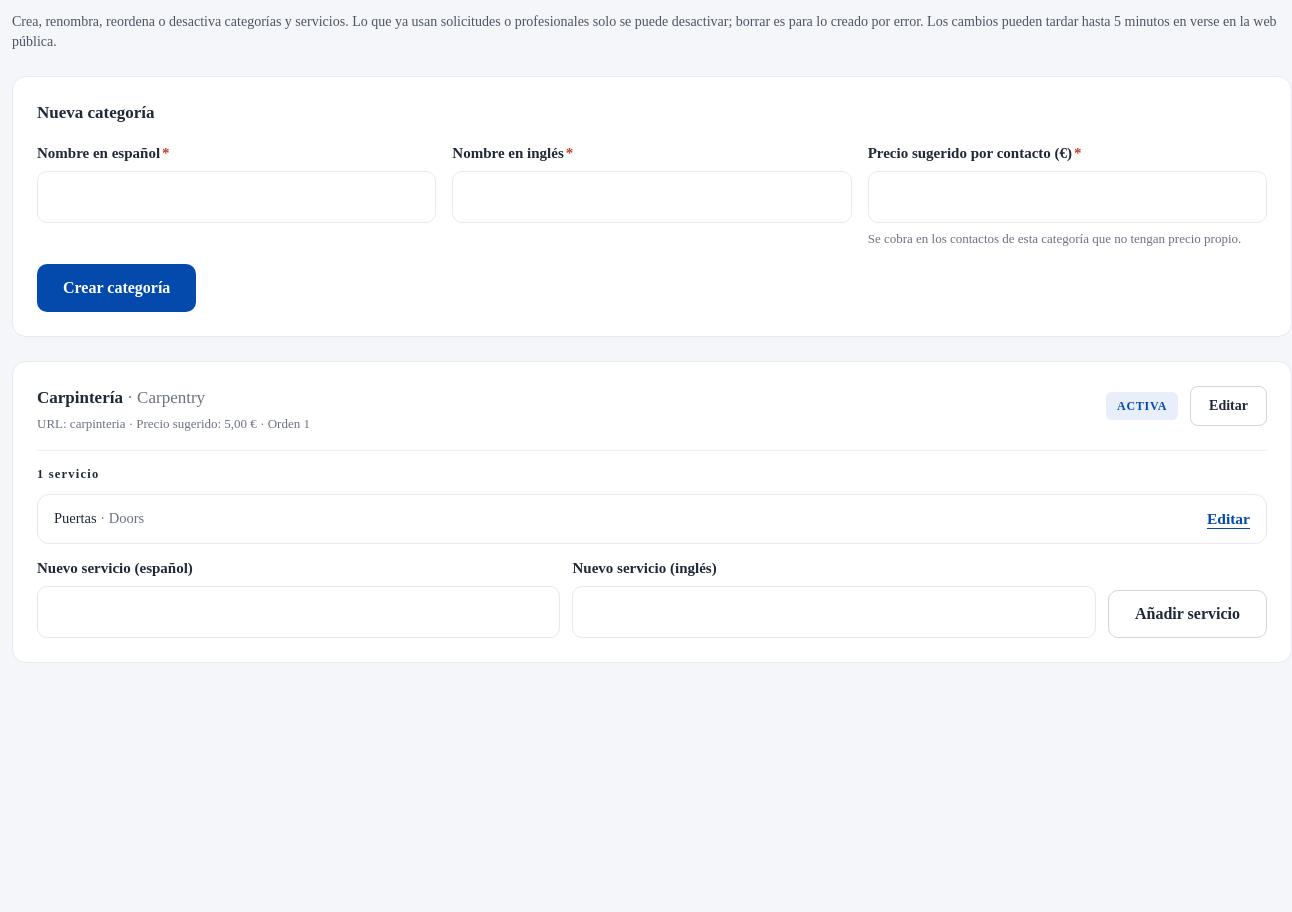
Test case: AdminCatalog › adds a service to its category
This screenshot has width=1292, height=912.
Expected: the heading "Carpintería · Carpentry" is shown, [37,388,205,407]
Type "Tarimas" into the field labelled "Nuevo servicio (español)" at (299, 612), box [37,586,560,638]
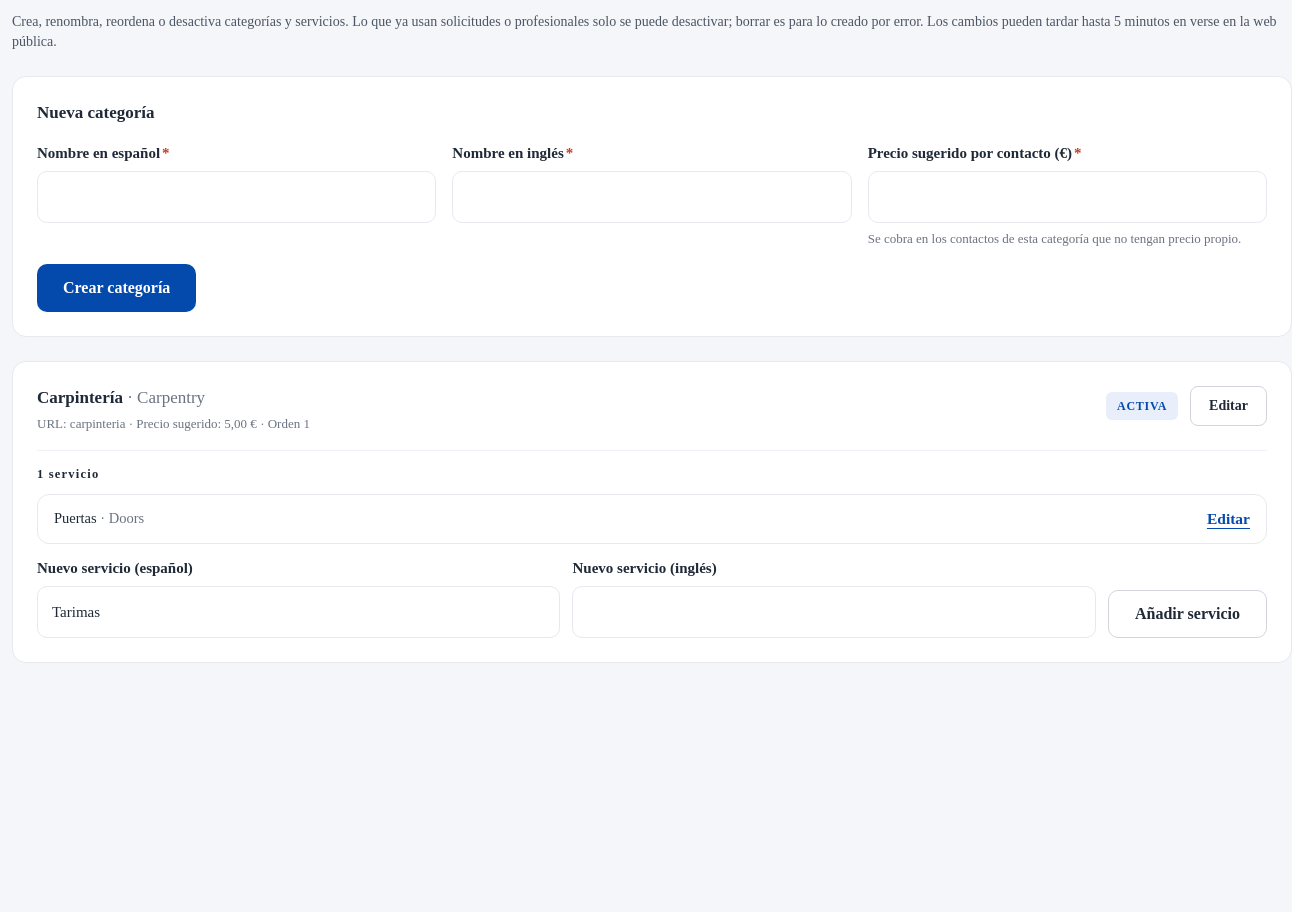
Type "Floors" into the field labelled "Nuevo servicio (inglés)" at (834, 612), box [572,586,1096,638]
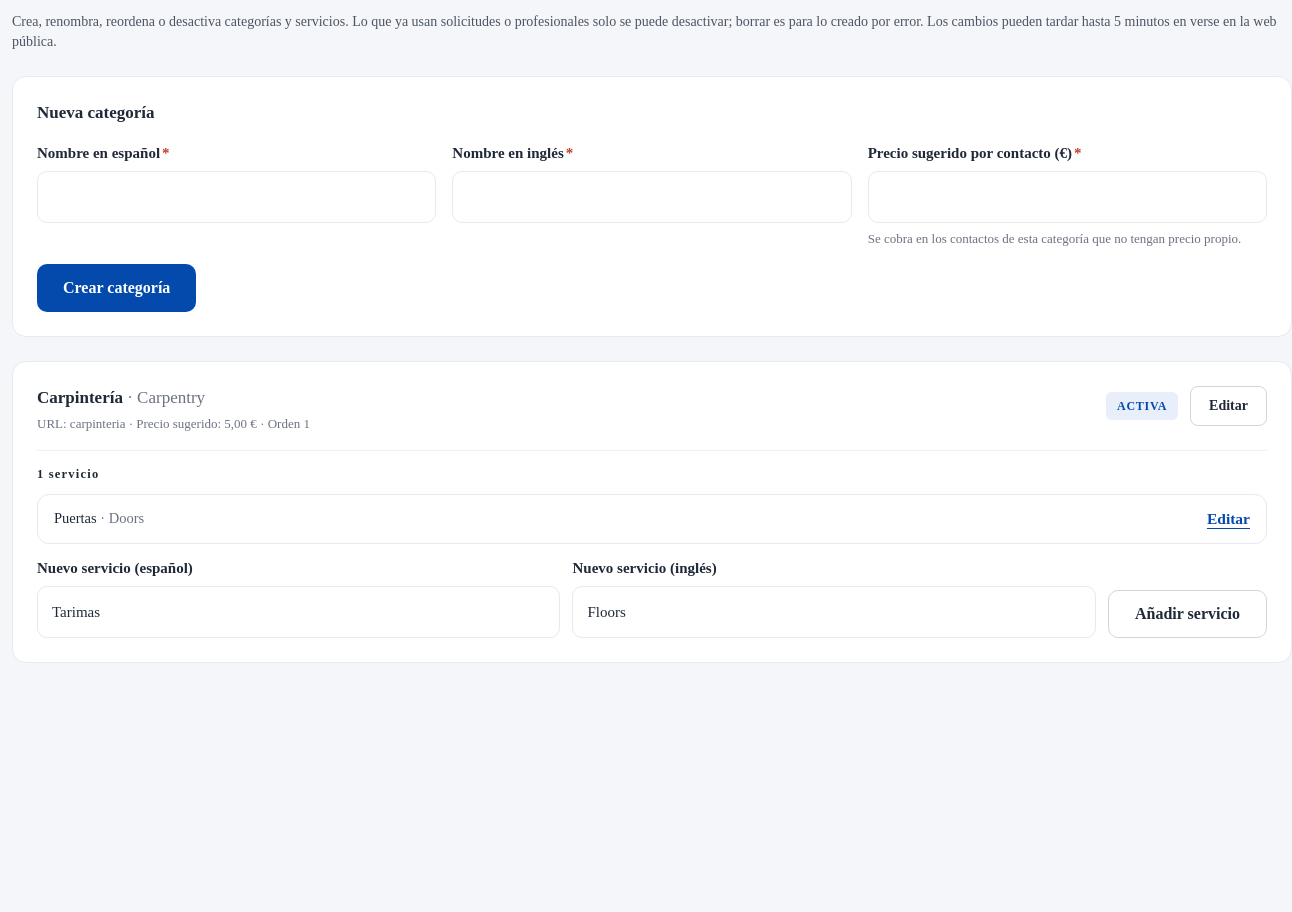
Click the button "Añadir servicio" at (1188, 614), box [1108,590,1267,638]
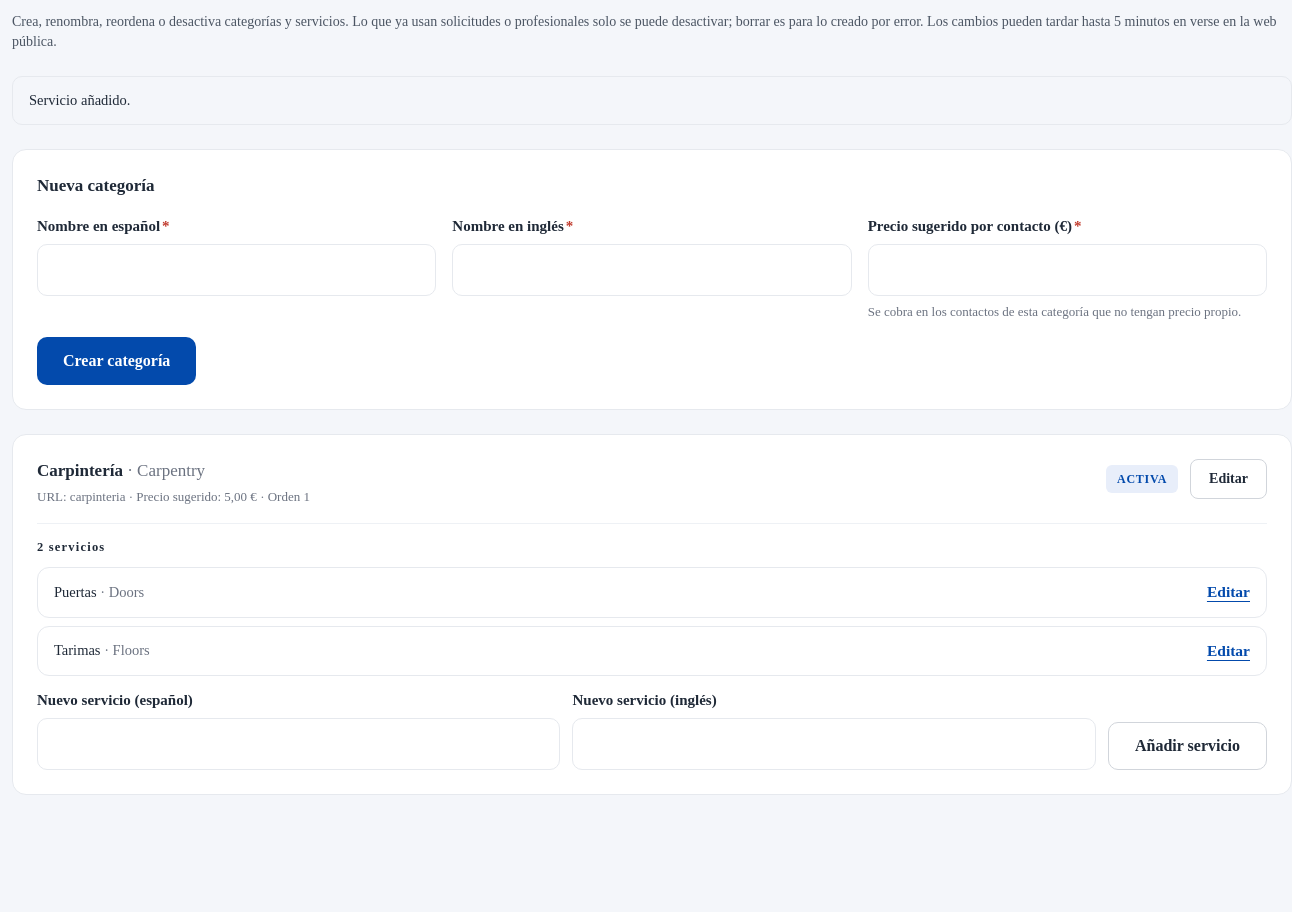
Expected: the text "Tarimas" is shown, [54,642,100,658]
